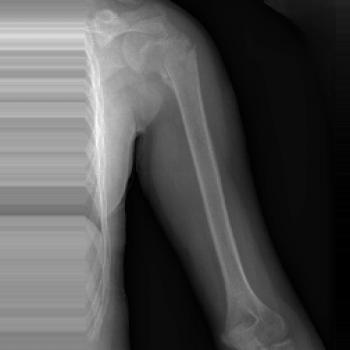Fracture: (177, 41, 201, 58)
